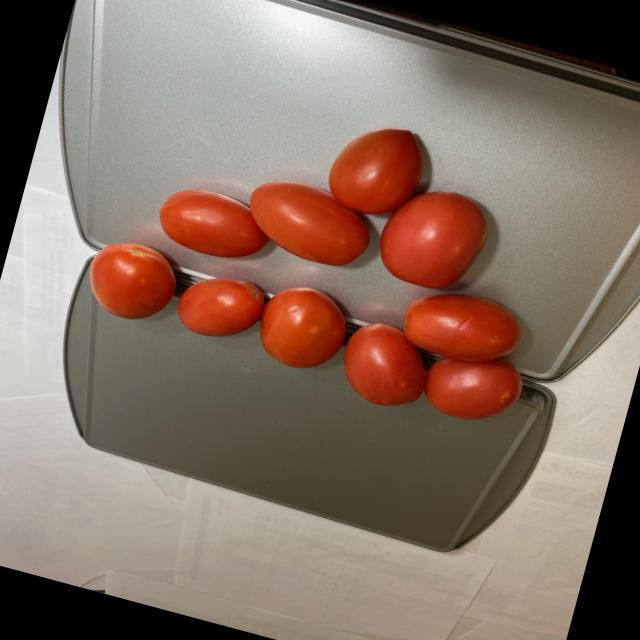tomato: (76, 53, 582, 441)
